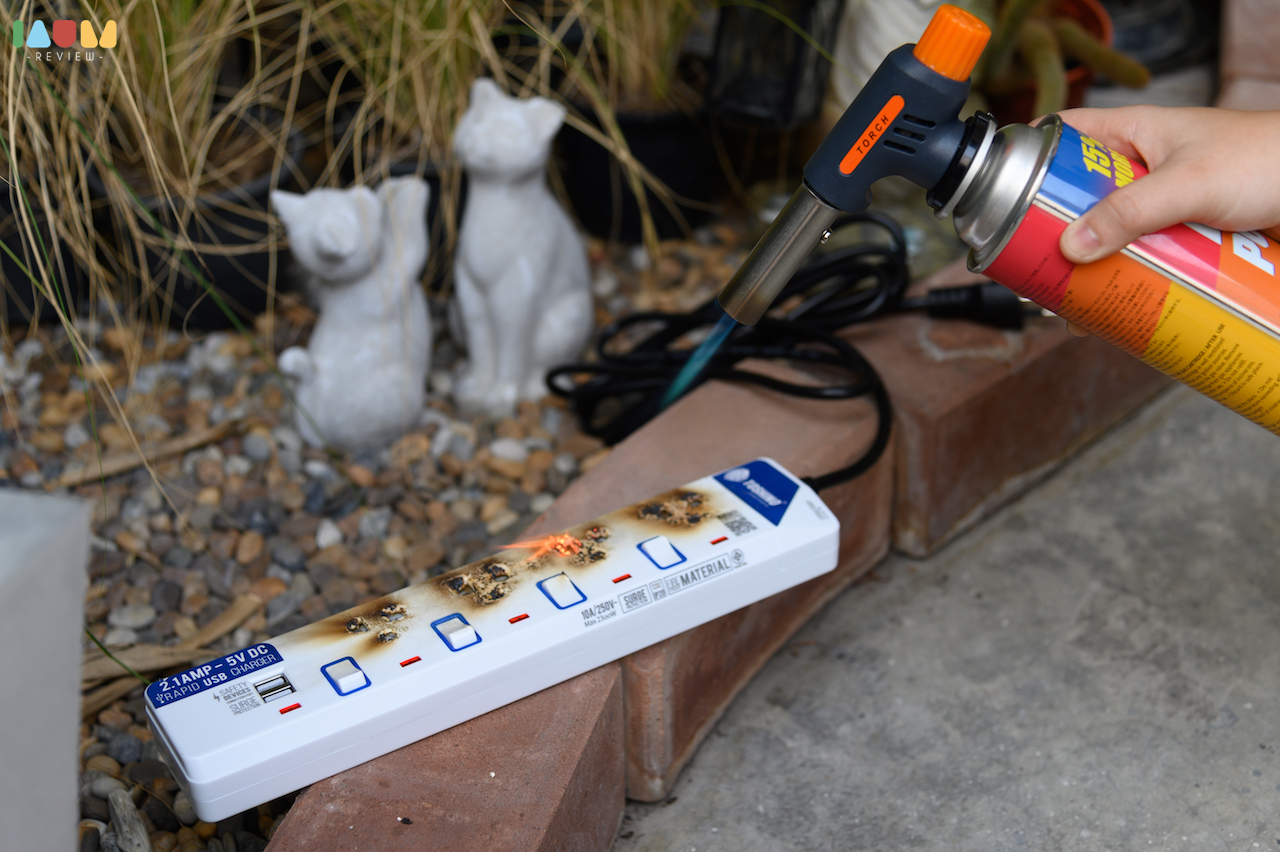Three_eye_plug: (134, 451, 854, 830)
